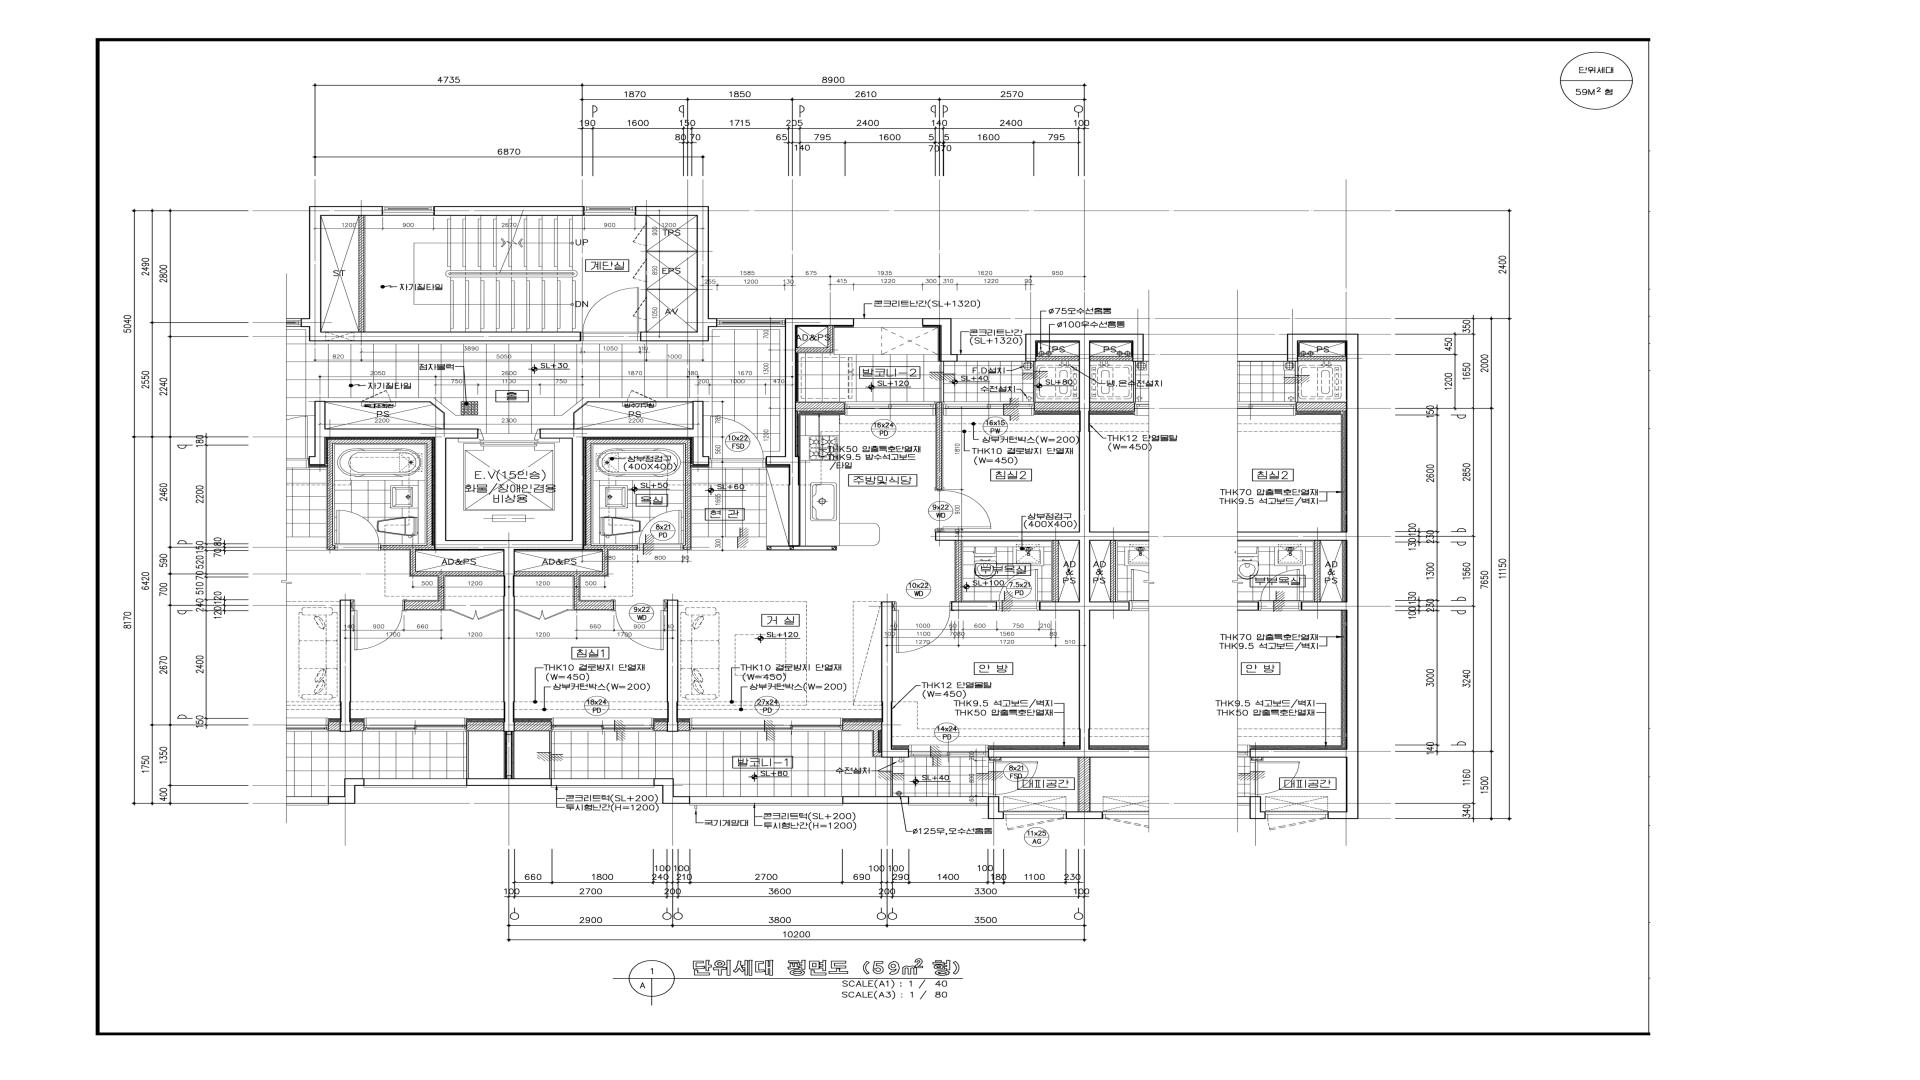door: (580, 286, 641, 342), (708, 415, 766, 468), (893, 601, 951, 653), (615, 600, 667, 650), (935, 489, 992, 531), (637, 509, 683, 550), (997, 568, 1040, 611), (988, 761, 1039, 796)
wall: (314, 401, 709, 786), (935, 334, 1091, 819), (309, 206, 582, 342), (514, 439, 691, 611), (766, 318, 855, 550), (636, 206, 717, 342), (843, 601, 909, 757), (653, 600, 690, 732), (951, 541, 997, 611), (434, 206, 584, 216), (922, 318, 957, 361), (796, 326, 835, 353), (654, 778, 690, 803), (359, 216, 365, 331), (935, 402, 943, 489), (843, 796, 909, 804), (1051, 541, 1059, 601), (1034, 401, 1079, 411), (796, 402, 845, 411), (514, 721, 553, 732), (988, 796, 1004, 819), (1036, 356, 1079, 361), (988, 757, 1002, 761)
window: (690, 717, 843, 732), (553, 717, 653, 732), (690, 796, 843, 806), (943, 402, 1034, 415), (845, 402, 936, 415), (551, 778, 654, 787), (909, 745, 988, 757), (909, 796, 988, 806), (717, 318, 785, 327), (853, 318, 922, 326), (584, 206, 636, 216), (382, 206, 434, 216), (957, 353, 1025, 361), (1004, 811, 1065, 819)
